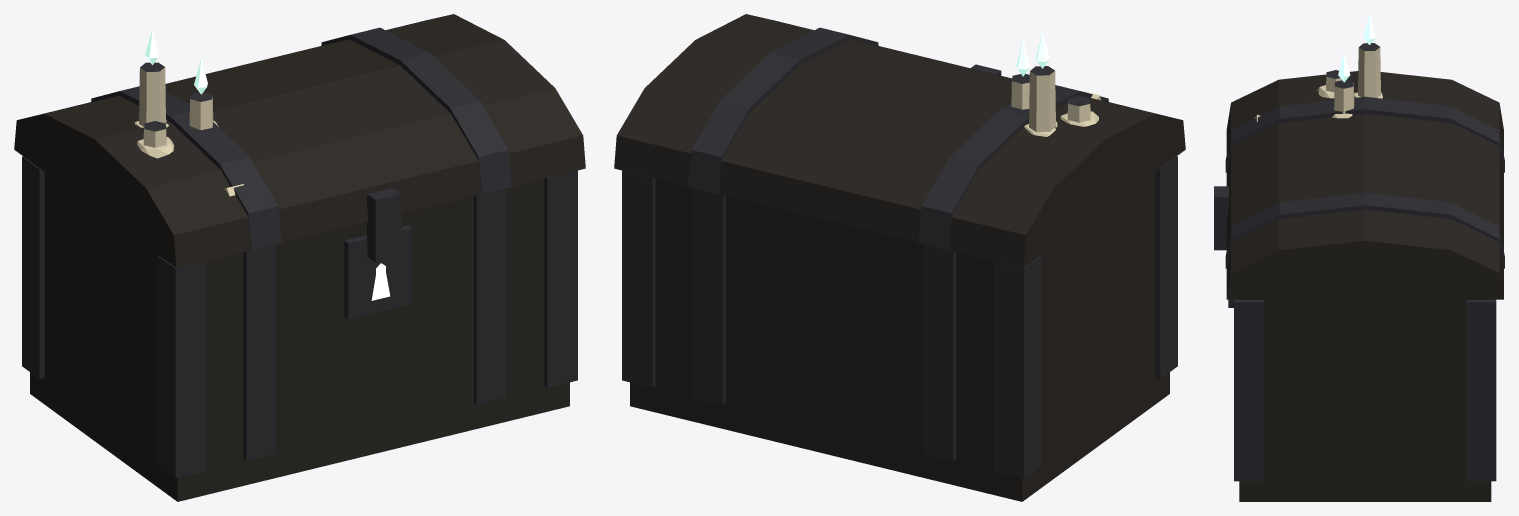
Rendered from GraveChest.fbx.
3 views of the same model, side by side, from view 1: azimuth 30°, elevation 25°; view 2: azimuth 150°, elevation 25°; view 3: azimuth 270°, elevation 25° (orthographic). The views are drawn at different scales.
Parts seen in each view (by area): view 1: GraveChest; view 2: GraveChest; view 3: GraveChest.
Part boxes in pixels (x1,y1,x2,y2): GraveChest: [14, 14, 585, 501]; GraveChest: [614, 14, 1185, 501]; GraveChest: [1214, 14, 1504, 501].
Bounding box in the file's own units: 0.96 × 0.9078 × 0.6916.
